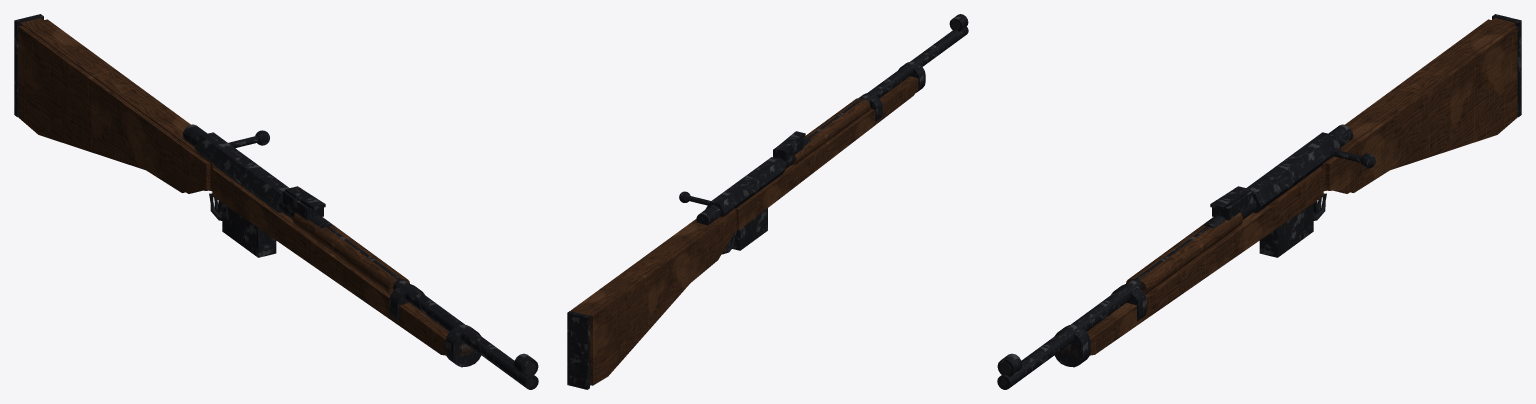
The model's file is mosin.glb.
The picture shows the model from 3 angles, left to right: view 1: azimuth 30°, elevation 25°; view 2: azimuth 150°, elevation 25°; view 3: azimuth 330°, elevation 25°; orthographic projection. The views are drawn at different scales.
Visible parts, largest first — view 1: Mosin_Nagant_91_30; view 2: Mosin_Nagant_91_30; view 3: Mosin_Nagant_91_30.
Boxes of the visible parts, <box> form: Mosin_Nagant_91_30: <box>14,14,538,389</box>; Mosin_Nagant_91_30: <box>567,14,968,389</box>; Mosin_Nagant_91_30: <box>997,14,1521,389</box>.
Bounding box in the file's own units: 0.0985 × 0.1678 × 1.26.
3 materials, 2 textured.
